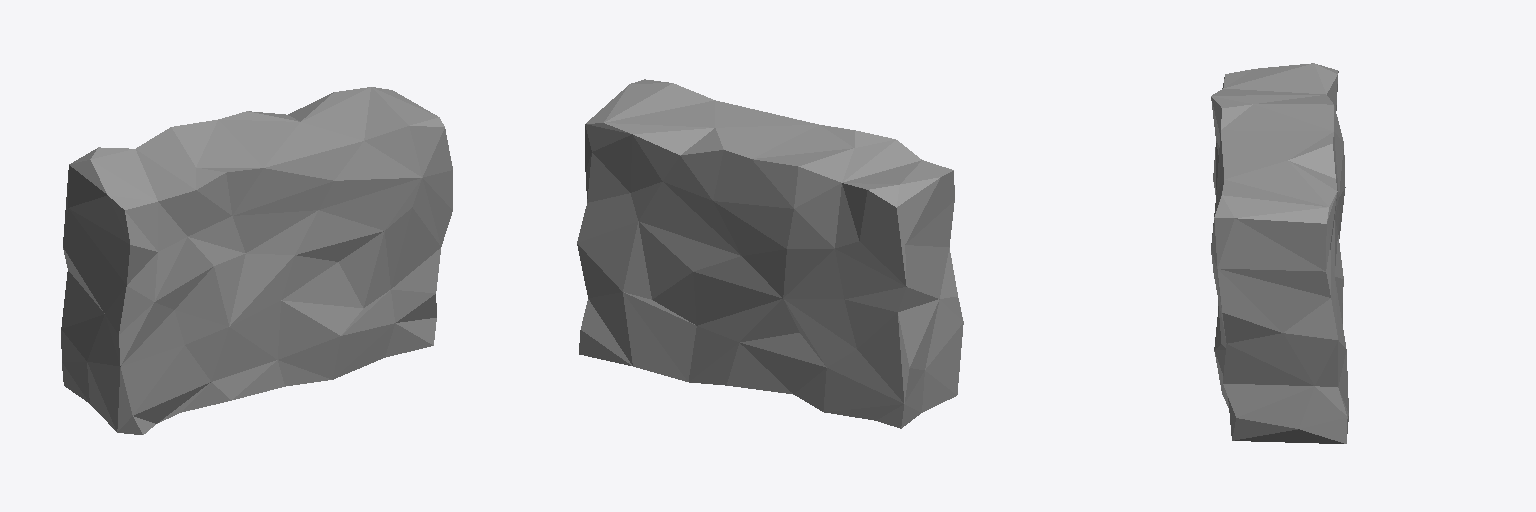
Rendered from hedge.obj.
The picture shows the model from 3 angles: view 1: azimuth 30°, elevation 25°; view 2: azimuth 150°, elevation 25°; view 3: azimuth 270°, elevation 25°; orthographic projection.
Visible parts, largest first — view 1: Hedge_10449_Rectangular_Box_Hedge_v1_SG; view 2: Hedge_10449_Rectangular_Box_Hedge_v1_SG; view 3: Hedge_10449_Rectangular_Box_Hedge_v1_SG.
Boxes of the visible parts, box(x1,y1,x2,y2) form: Hedge_10449_Rectangular_Box_Hedge_v1_SG: box(61, 87, 452, 434); Hedge_10449_Rectangular_Box_Hedge_v1_SG: box(577, 79, 963, 428); Hedge_10449_Rectangular_Box_Hedge_v1_SG: box(1211, 63, 1348, 443).
Size of the model in its own units: 7.29 by 5.11 by 2.59.